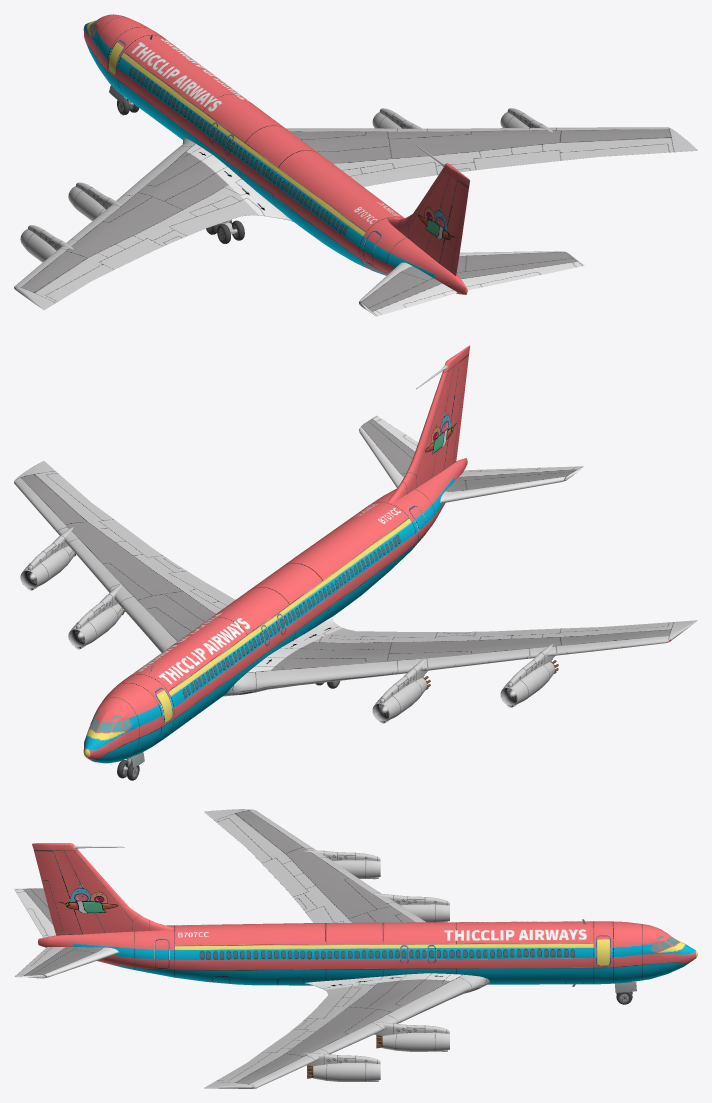
3 renders of one model, top to bottom at view 1: azimuth 30°, elevation 25°; view 2: azimuth 150°, elevation 25°; view 3: azimuth 270°, elevation 25°, orthographic. The views are drawn at different scales.
Visible parts, largest first — view 1: Shape_IndexedFaceSet, Shape_IndexedFaceSet.004, Shape_IndexedFaceSet.260, Shape_IndexedFaceSet.002, Shape_IndexedFaceSet.257, Shape_IndexedFaceSet.003, Shape_IndexedFaceSet.057, Shape_IndexedFaceSet.069; view 2: Shape_IndexedFaceSet, Shape_IndexedFaceSet.004, Shape_IndexedFaceSet.260, Shape_IndexedFaceSet.002, Shape_IndexedFaceSet.003, Shape_IndexedFaceSet.257, Shape_IndexedFaceSet.069, Shape_IndexedFaceSet.057, Shape_IndexedFaceSet.061, Shape_IndexedFaceSet.065; view 3: Shape_IndexedFaceSet, Shape_IndexedFaceSet.260, Shape_IndexedFaceSet.004, Shape_IndexedFaceSet.002, Shape_IndexedFaceSet.257, Shape_IndexedFaceSet.061, Shape_IndexedFaceSet.065, Shape_IndexedFaceSet.003, Shape_IndexedFaceSet.057, Shape_IndexedFaceSet.069, Shape_IndexedFaceSet.062, Shape_IndexedFaceSet.066 (+2 smaller).
Boxes of the visible parts, left/top/right/bottom form: Shape_IndexedFaceSet: left=83, top=14, right=467, bottom=294; Shape_IndexedFaceSet.004: left=14, top=138, right=293, bottom=309; Shape_IndexedFaceSet.260: left=286, top=127, right=697, bottom=186; Shape_IndexedFaceSet.002: left=387, top=163, right=469, bottom=275; Shape_IndexedFaceSet.257: left=456, top=251, right=584, bottom=289; Shape_IndexedFaceSet.003: left=359, top=262, right=456, bottom=316; Shape_IndexedFaceSet.057: left=68, top=186, right=105, bottom=220; Shape_IndexedFaceSet.069: left=20, top=229, right=56, bottom=262; Shape_IndexedFaceSet: left=83, top=458, right=467, bottom=763; Shape_IndexedFaceSet.004: left=223, top=616, right=697, bottom=696; Shape_IndexedFaceSet.260: left=14, top=461, right=235, bottom=652; Shape_IndexedFaceSet.002: left=387, top=345, right=470, bottom=503; Shape_IndexedFaceSet.003: left=440, top=466, right=584, bottom=503; Shape_IndexedFaceSet.257: left=359, top=415, right=418, bottom=488; Shape_IndexedFaceSet.069: left=500, top=662, right=554, bottom=705; Shape_IndexedFaceSet.057: left=372, top=677, right=426, bottom=721; Shape_IndexedFaceSet.061: left=68, top=603, right=122, bottom=647; Shape_IndexedFaceSet.065: left=20, top=546, right=74, bottom=588; Shape_IndexedFaceSet: left=38, top=921, right=697, bottom=985; Shape_IndexedFaceSet.260: left=204, top=973, right=490, bottom=1088; Shape_IndexedFaceSet.004: left=204, top=809, right=425, bottom=922; Shape_IndexedFaceSet.002: left=32, top=843, right=174, bottom=935; Shape_IndexedFaceSet.257: left=14, top=947, right=118, bottom=978; Shape_IndexedFaceSet.061: left=382, top=1032, right=449, bottom=1051; Shape_IndexedFaceSet.065: left=313, top=1063, right=380, bottom=1081; Shape_IndexedFaceSet.003: left=14, top=888, right=55, bottom=937; Shape_IndexedFaceSet.057: left=400, top=904, right=449, bottom=922; Shape_IndexedFaceSet.069: left=333, top=860, right=380, bottom=878; Shape_IndexedFaceSet.062: left=373, top=1022, right=449, bottom=1035; Shape_IndexedFaceSet.066: left=304, top=1053, right=380, bottom=1065.
Size of the model in its own units: 39.09 by 10.47 by 40.72.
223 materials, 181 textured.
